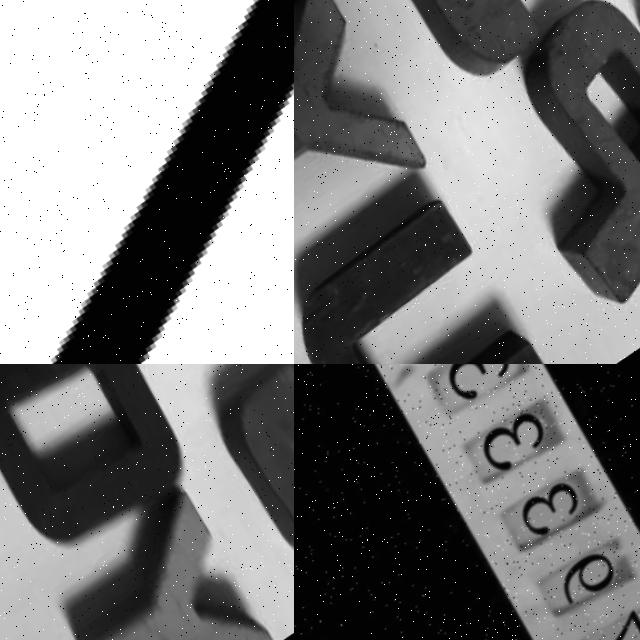3: (443, 374, 592, 527), (487, 448, 625, 589), (410, 364, 554, 452)
7: (0, 0, 294, 364), (558, 581, 640, 640)
9: (525, 519, 640, 640)
J: (345, 0, 633, 111), (195, 364, 294, 630)
O: (0, 364, 204, 585)
P: (463, 0, 640, 334)
U: (294, 188, 566, 364)
Y: (294, 0, 434, 285), (39, 492, 282, 640)
